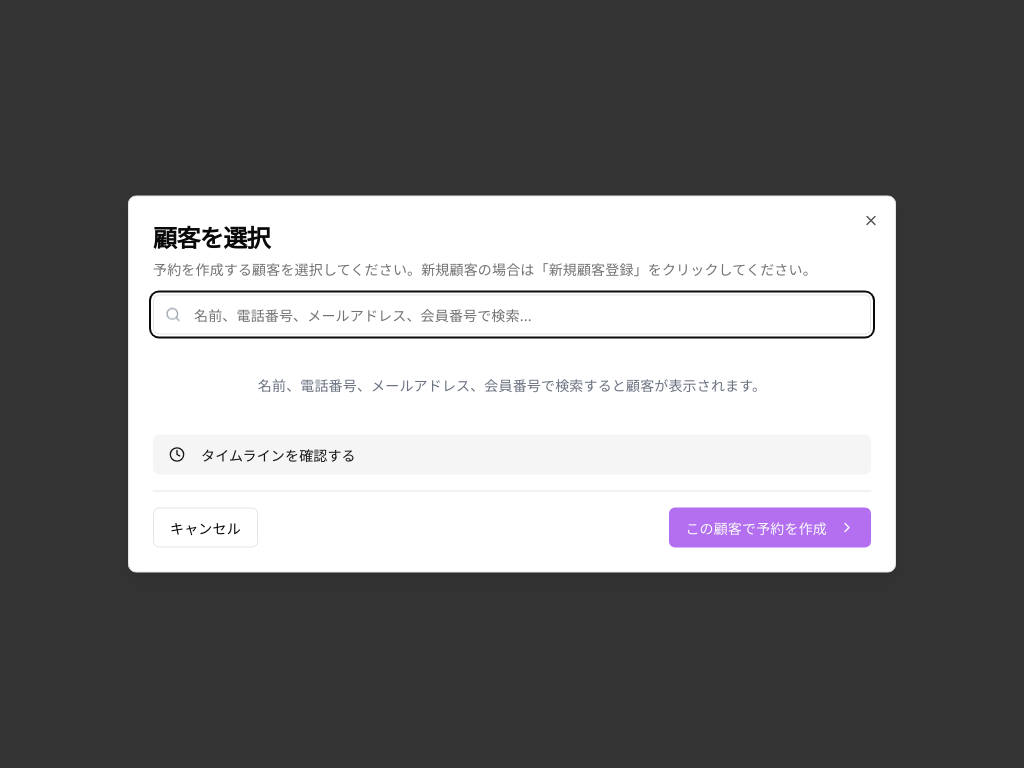
Test: CustomerSelectionDialog › shows only a retryable error when server search fails and retries the same query
In the field with placeholder "名前、電話番号、メールアドレス、会員番号で検索...": (512, 314) [153,294,871,334], type "旧実名顧客"
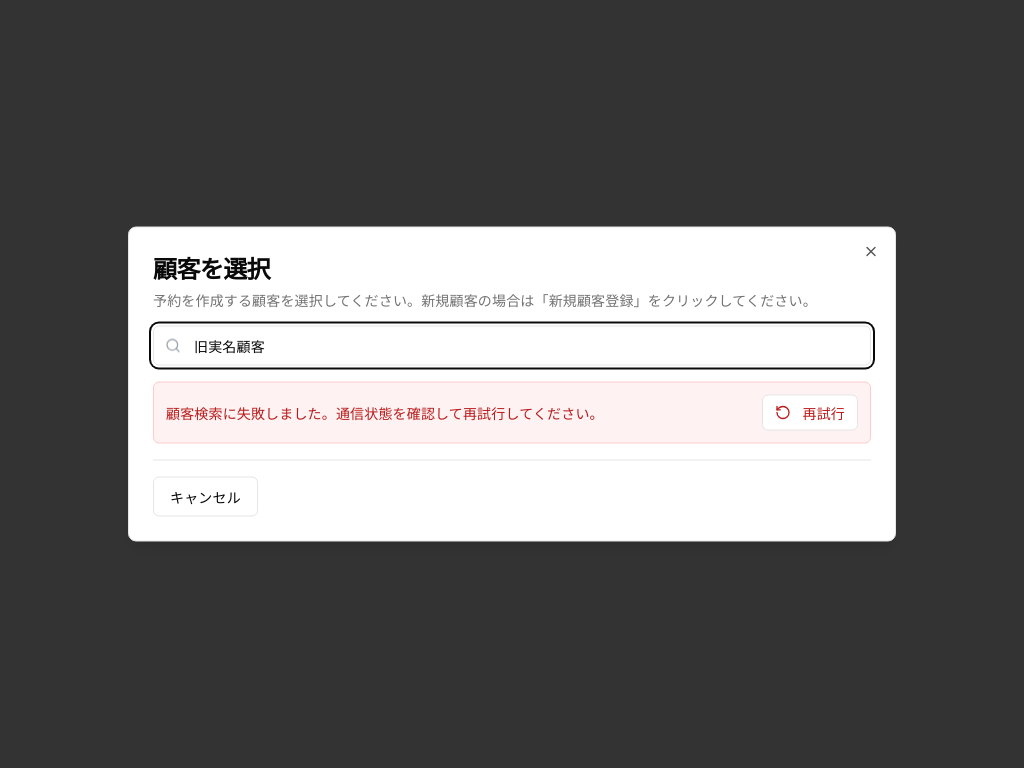
expect the text "[確認用] 旧実名顧客" is not shown: met
expect the message shows "顧客検索に失敗しました": met, box [166,402,604,422]
expect the button "タイムラインを確認する" is gone: met
Click the button "再試行": click(810, 412) [762,394,858,430]
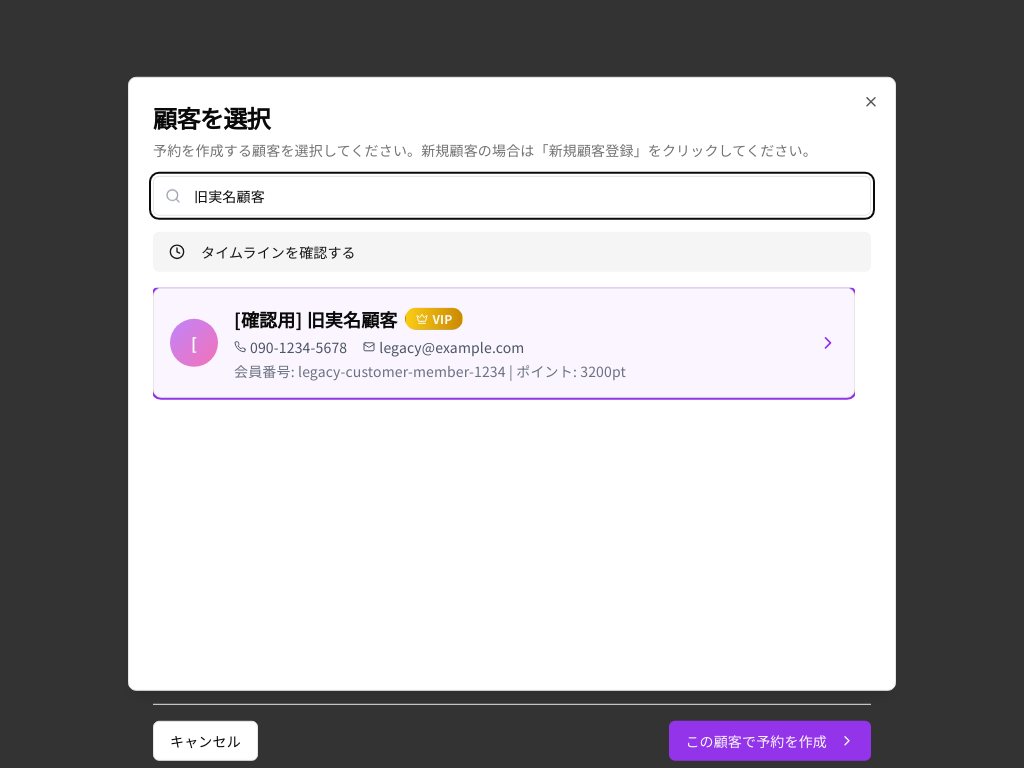
expect the heading "[確認用] 旧実名顧客" is shown: met, box [234,305,398,333]
expect the message "顧客検索に失敗しました。通信状態を確認して再試行してください。 再試行" is gone: met
